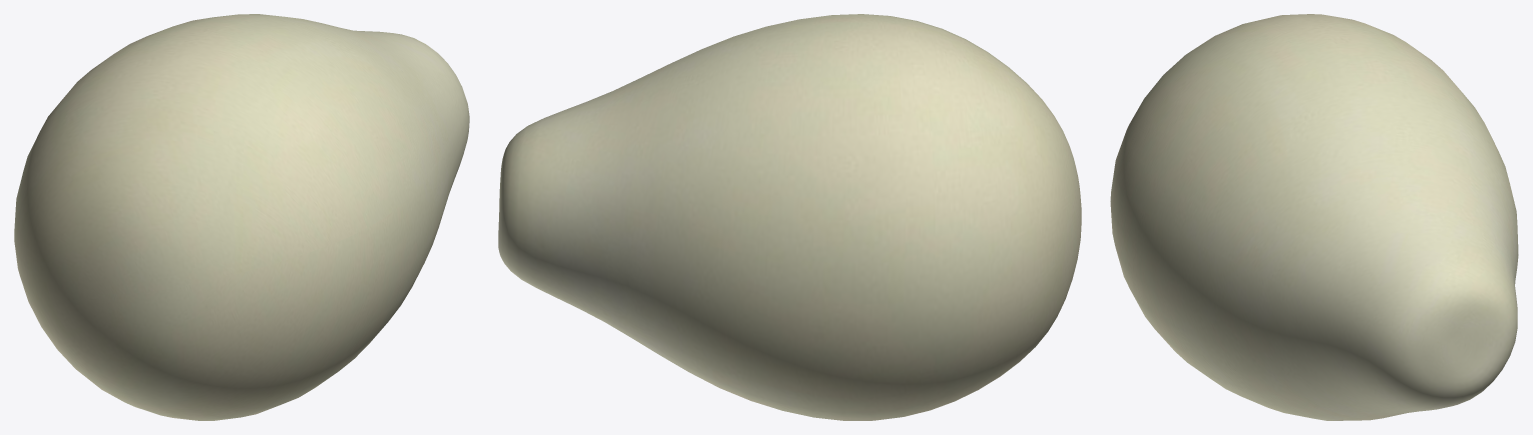
The model's file is GreenAvocadoFlesh.obj.
3 views of the same model, side by side, from view 1: azimuth 30°, elevation 25°; view 2: azimuth 150°, elevation 25°; view 3: azimuth 270°, elevation 25° (orthographic). The views are drawn at different scales.
Parts seen in each view (by area): view 1: GreenAvocadoFlesh; view 2: GreenAvocadoFlesh; view 3: GreenAvocadoFlesh.
Part boxes in pixels (box(x1,y1,x2,y2)): GreenAvocadoFlesh: box(14, 14, 469, 420); GreenAvocadoFlesh: box(498, 14, 1081, 420); GreenAvocadoFlesh: box(1110, 14, 1518, 420).
Size of the model in its own units: 0.1044 by 0.0749 by 0.0774.
1 material, 1 textured.
